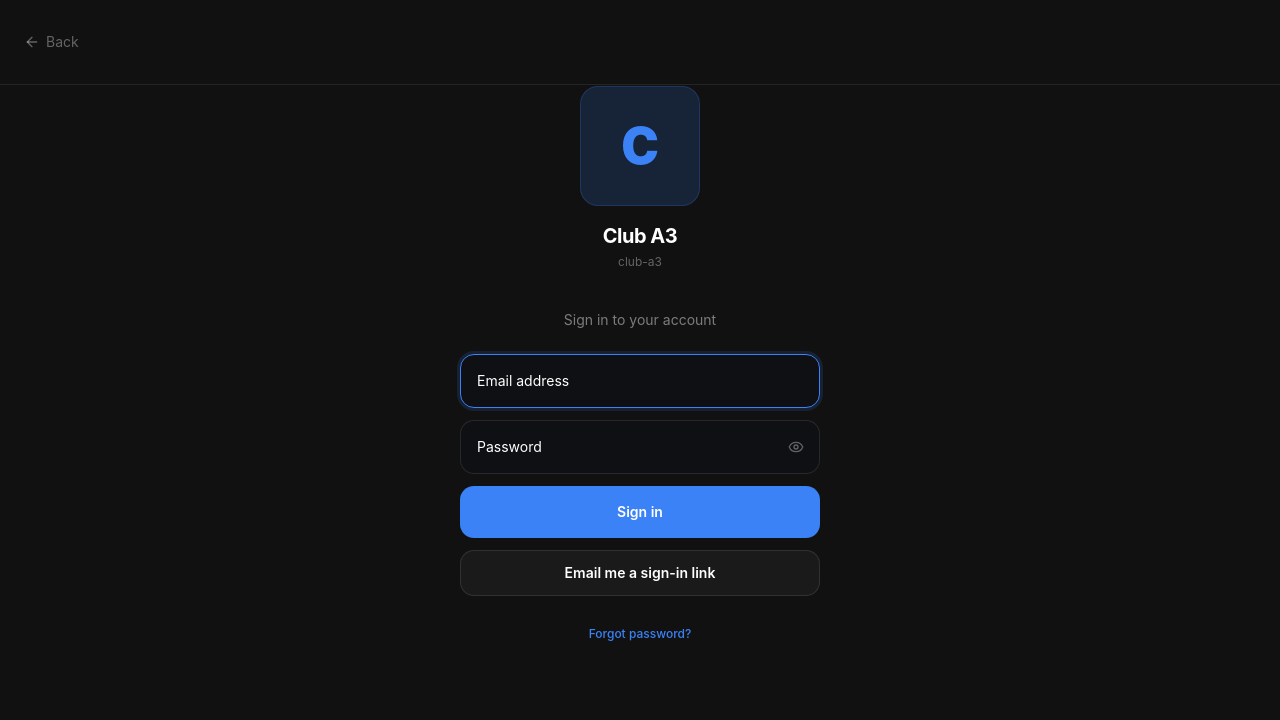
signIn().code from the credentials door › account_locked (no producer) falls through to the generic wrong-password sentence
The image size is (1280, 720).
Step 1. Type "someone@example.test" into the field labelled "Email address" → (640, 380), box [460,354,820,408]
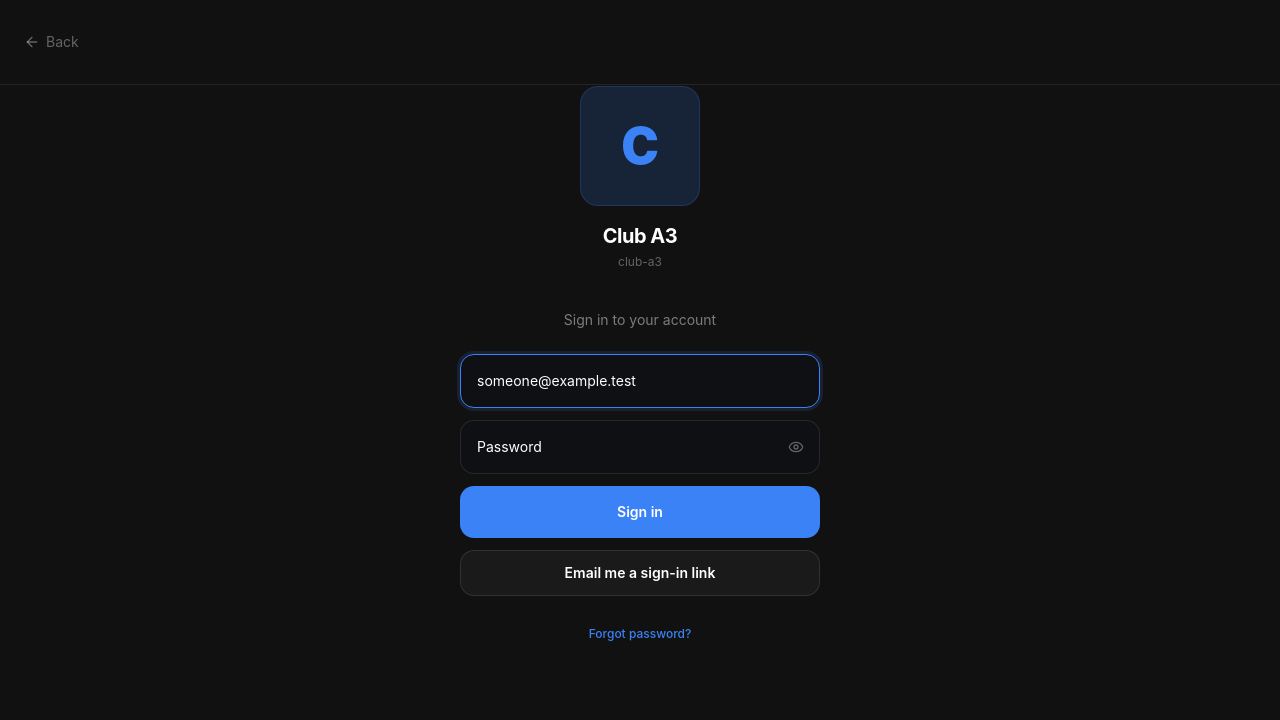
Step 2. Type "wrong-password-a3" into the password field labelled "Password" → (640, 446), box [460,420,820,474]
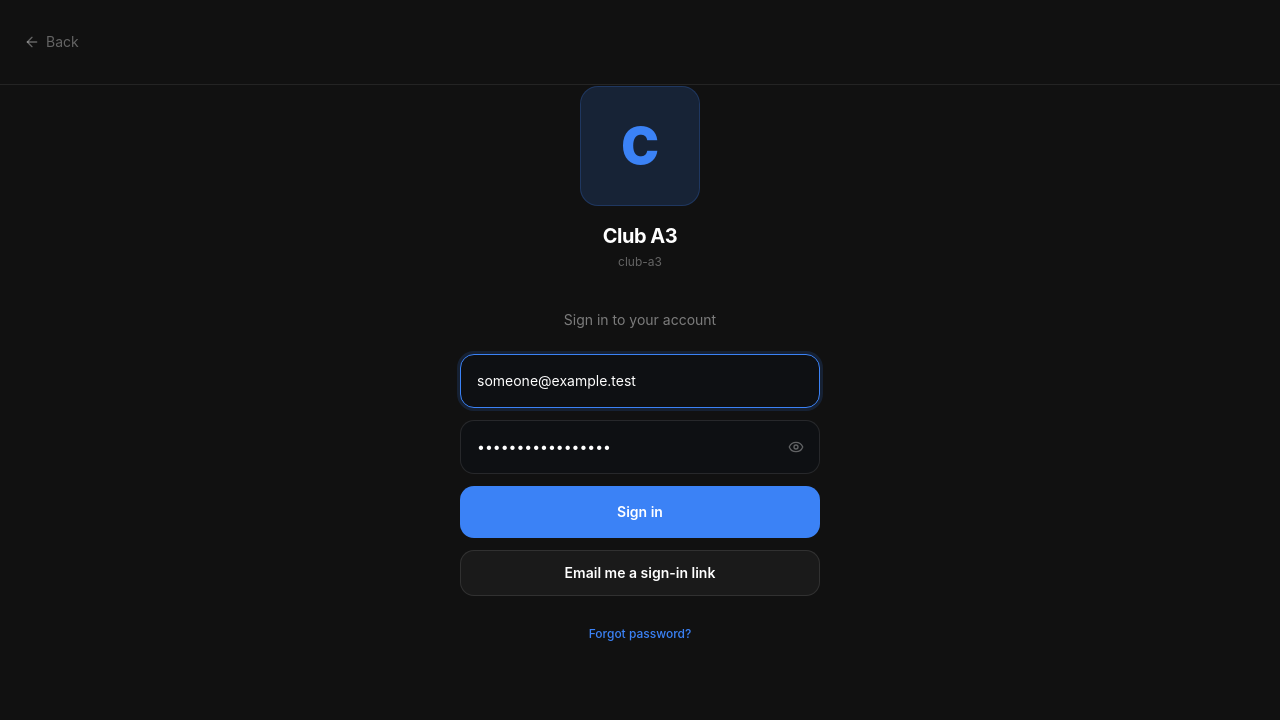
Step 3. Click the button "Sign in" → (640, 512), box [460,486,820,538]
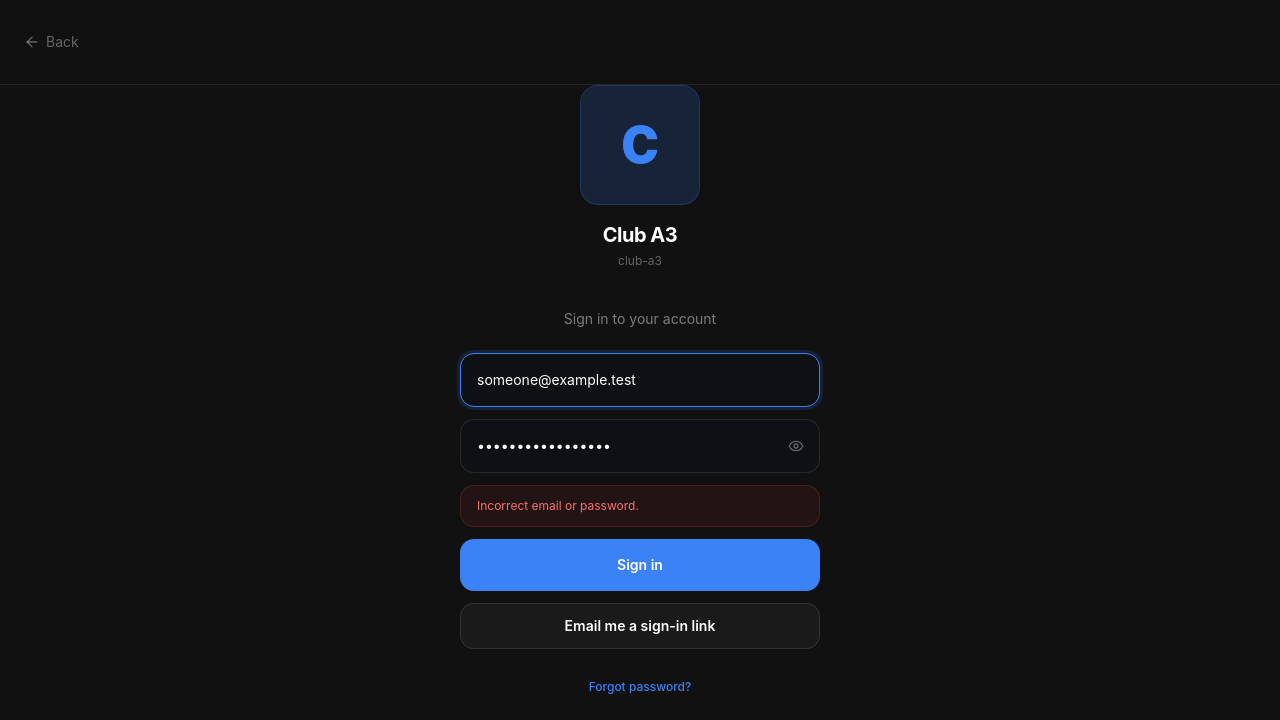
Expected: the message reads "Incorrect email or password.", [477,498,639,513]
